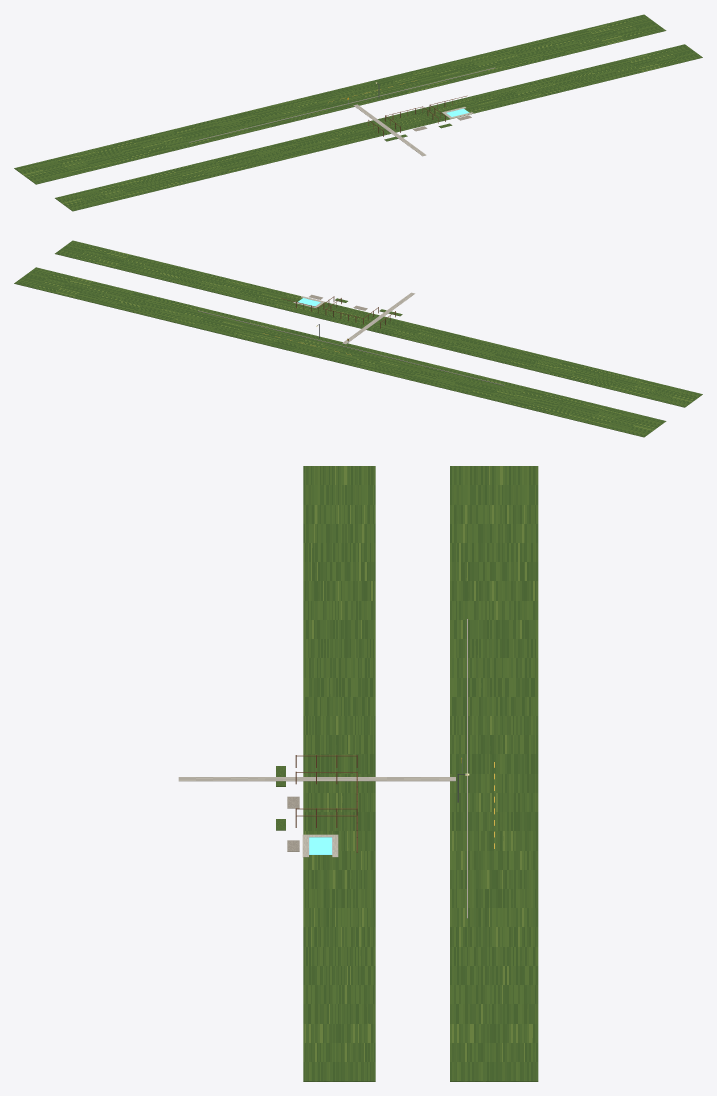
File: structure.glb
The picture shows the model from 3 angles, top to bottom: view 1: azimuth 30°, elevation 25°; view 2: azimuth 150°, elevation 25°; view 3: azimuth 270°, elevation 25°; orthographic projection. The views are drawn at different scales.
Visible parts, largest first — view 1: Box1, Box2, Box54, Box55; view 2: Box1, Box2, Box54, Box55; view 3: Box1, Box2, Box55.
Boxes of the visible parts, x1,y1,x2,y2 form: Box1: [14, 14, 666, 184]; Box2: [55, 44, 702, 211]; Box54: [189, 67, 495, 142]; Box55: [353, 104, 426, 156]; Box1: [14, 267, 666, 437]; Box2: [55, 240, 702, 407]; Box54: [198, 310, 504, 385]; Box55: [342, 292, 414, 344]; Box1: [450, 466, 538, 1081]; Box2: [303, 466, 375, 1081]; Box55: [178, 777, 455, 781].
Bounding box in the file's own units: 212 × 4.72 × 52.38.
13 materials, 4 textured.
